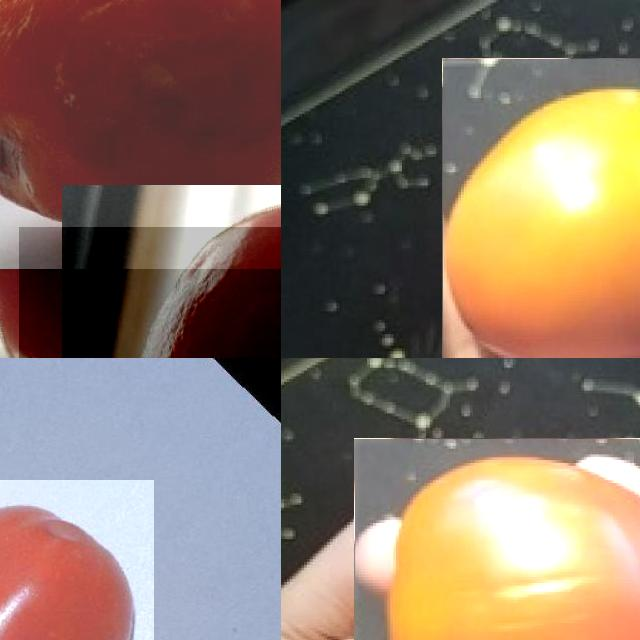1: (0, 0, 281, 269), (19, 227, 281, 358)
Fresh Tomato: (0, 480, 154, 640)
Rotten Tomato: (442, 58, 640, 358), (354, 438, 640, 640)
